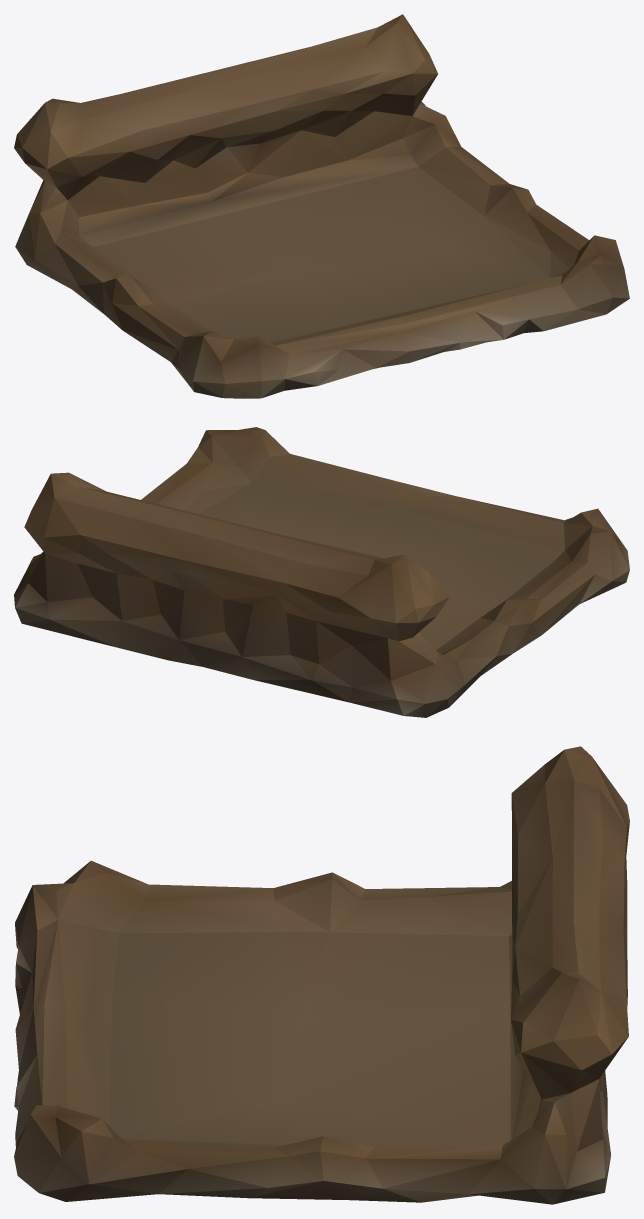
File: archery.glb
3 renders of one model, top to bottom at view 1: azimuth 30°, elevation 25°; view 2: azimuth 150°, elevation 25°; view 3: azimuth 270°, elevation 25°, orthographic. The views are drawn at different scales.
Parts seen in each view (by area): view 1: model.001; view 2: model.001; view 3: model.001.
Part boxes in pixels (x1=…): model.001: x1=14, y1=14, x2=629, y2=398; model.001: x1=14, y1=427, x2=629, y2=717; model.001: x1=14, y1=746, x2=629, y2=1204.
Size of the model in its own units: 1.01 by 0.3425 by 0.9159.
